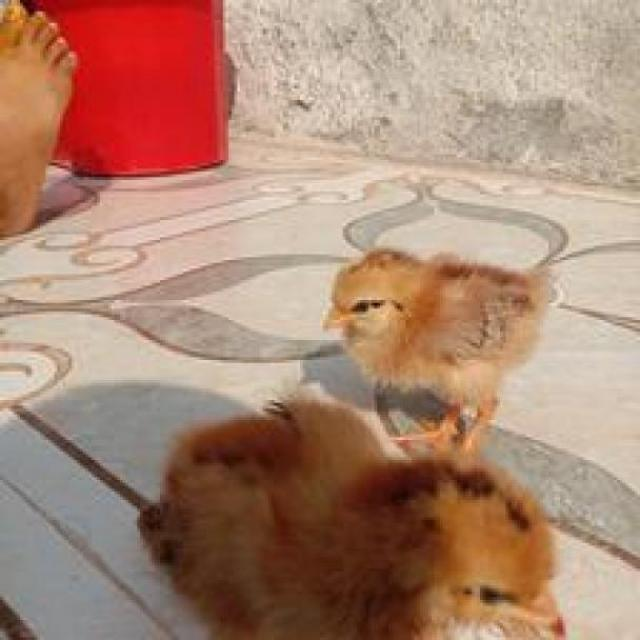Chicken: (156, 383, 640, 640), (316, 233, 592, 457)
